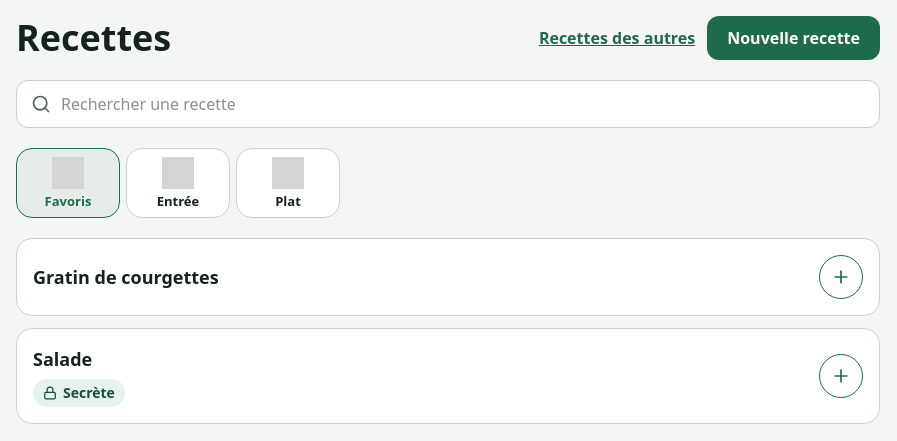
Test: le type « Favoris » de la liste des recettes › dit que la liste est vide quand le filtre ne trouve aucun favori
This screenshot has width=897, height=441.
In the search field with placeholder "Rechercher une recette": (463, 104) top-left (61, 92), bottom-right (865, 116), type "zzz"
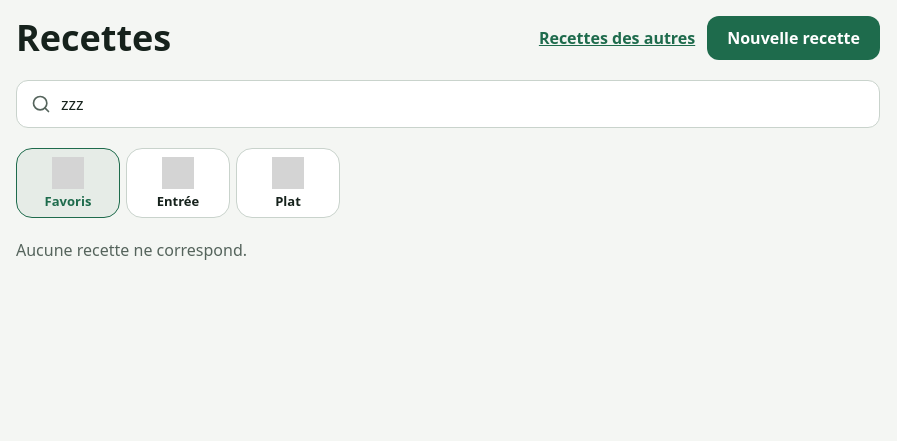
Now the text "Aucune recette ne correspond." is shown, box top-left (16, 239), bottom-right (247, 261)
